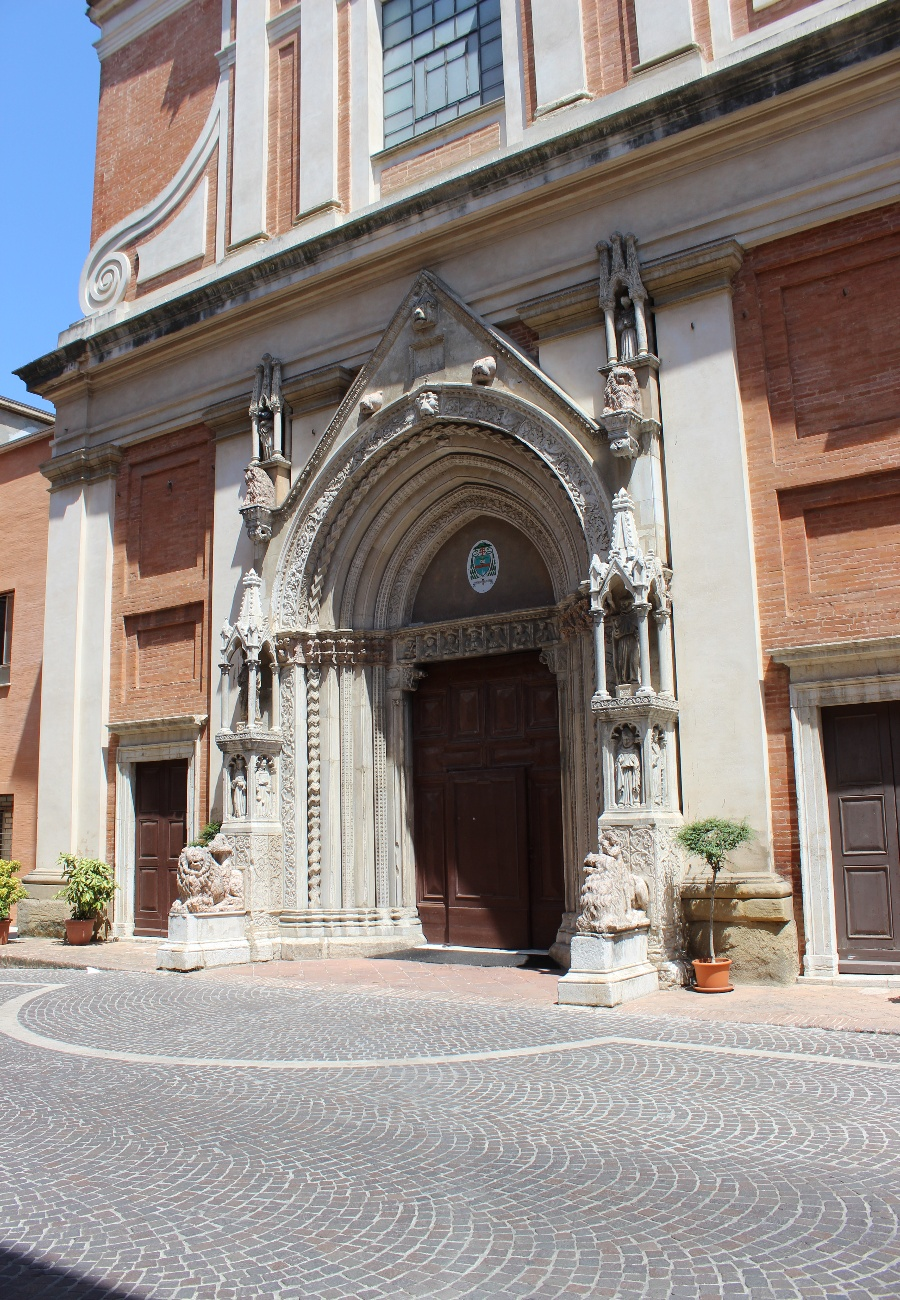Chiesa San Agostino: (18, 1, 900, 1035)
